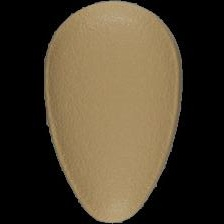0002-4462: (0, 0, 224, 224)
